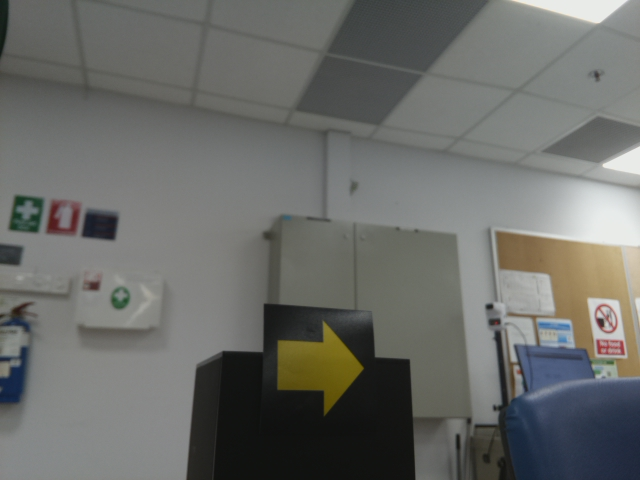right: (268, 316, 371, 418)
